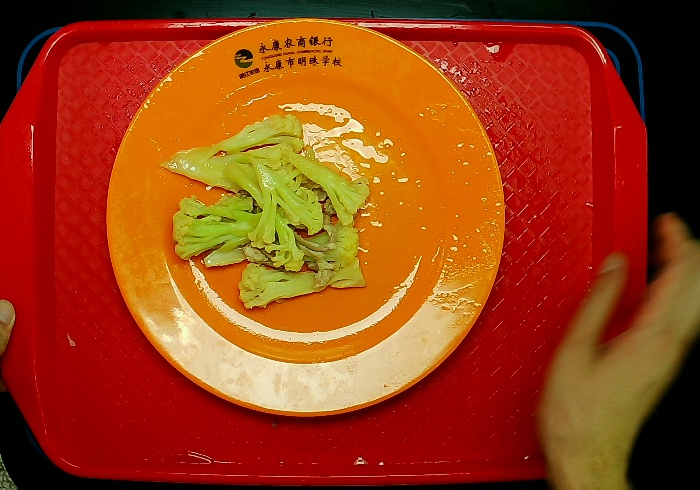YKMZ-Ju_Se_Mian_Pan: (104, 20, 505, 419)
